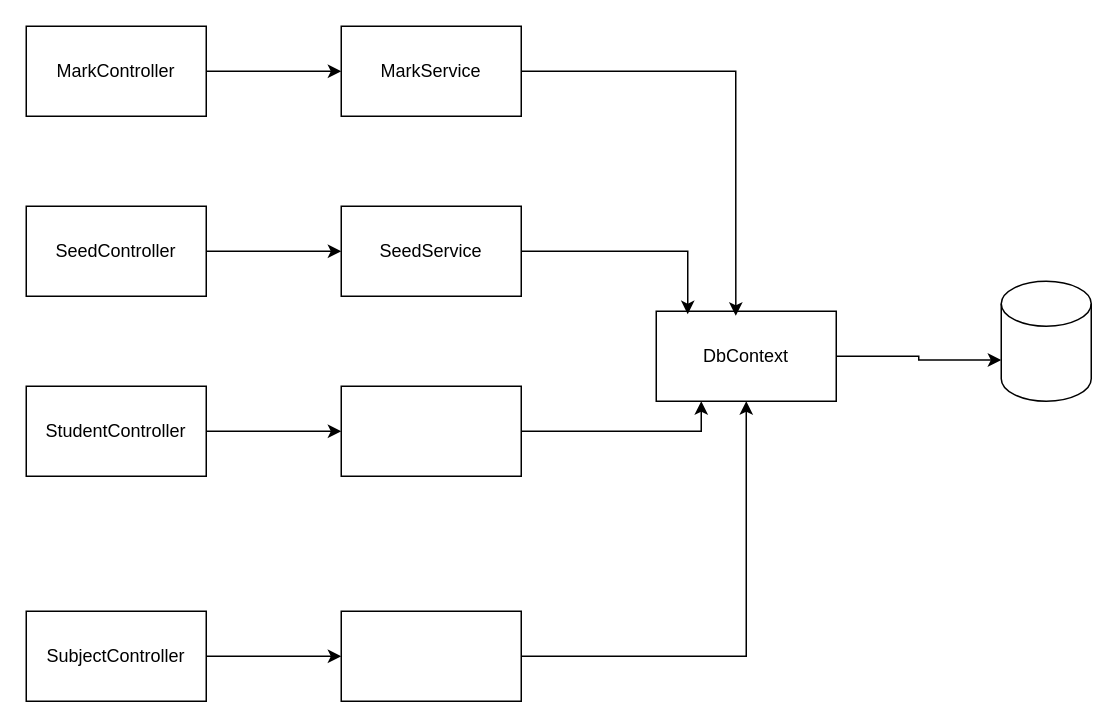
Image size: 1118x728. Some labels were removed from this diagram. The shapes that lost their labels are listed below. From the top down, each one's box as (x1, y1, x2, y2) in pixels, then its label:
(1000, 280, 1091, 401): DB
(340, 385, 521, 476): StudentService
(340, 610, 521, 701): SubjectService
